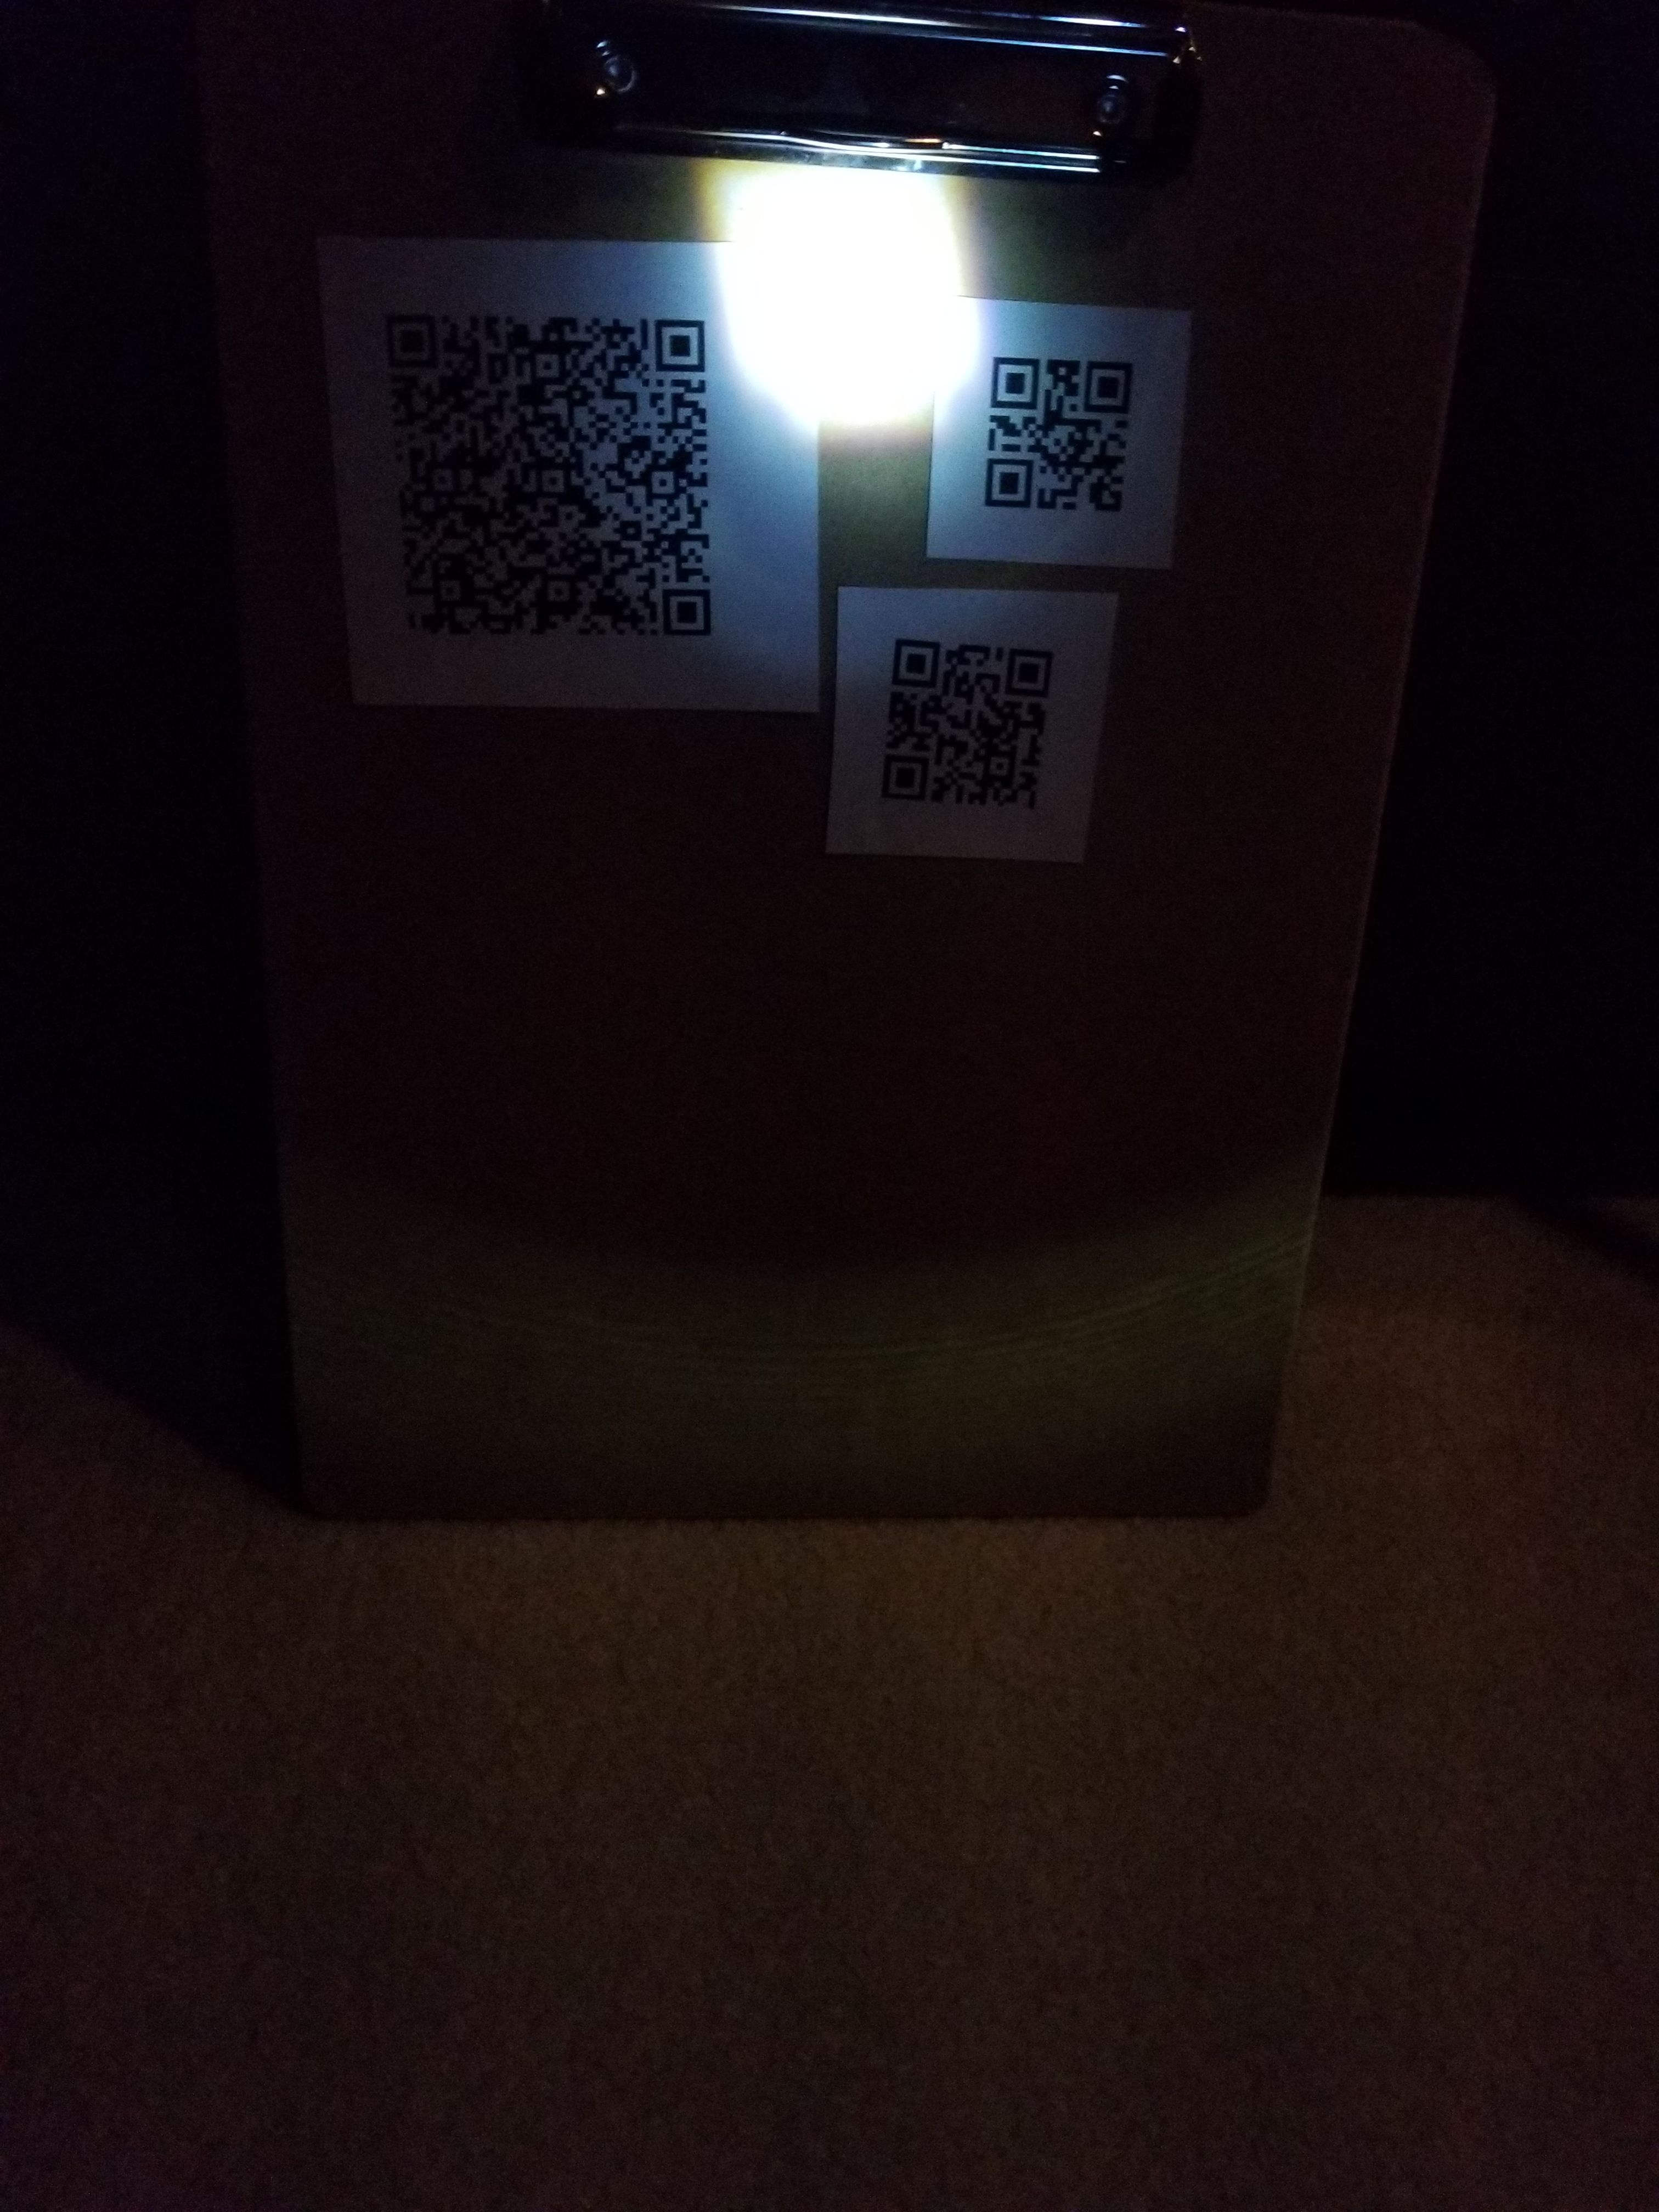QR_CODE: (336, 253, 742, 658), (859, 603, 1091, 827), (964, 310, 1190, 535)
